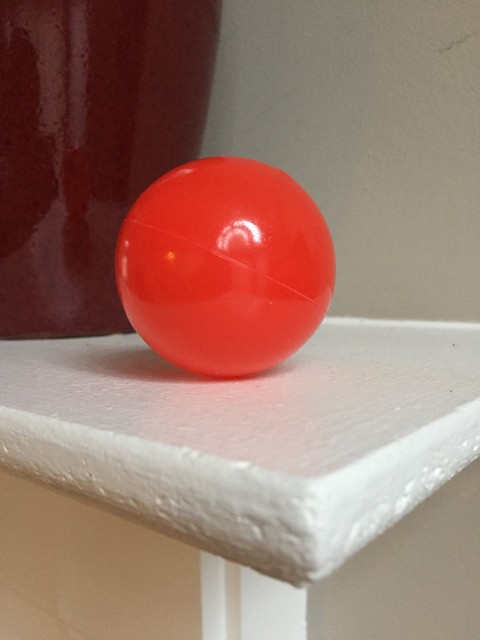Ball: (112, 158, 333, 381)
